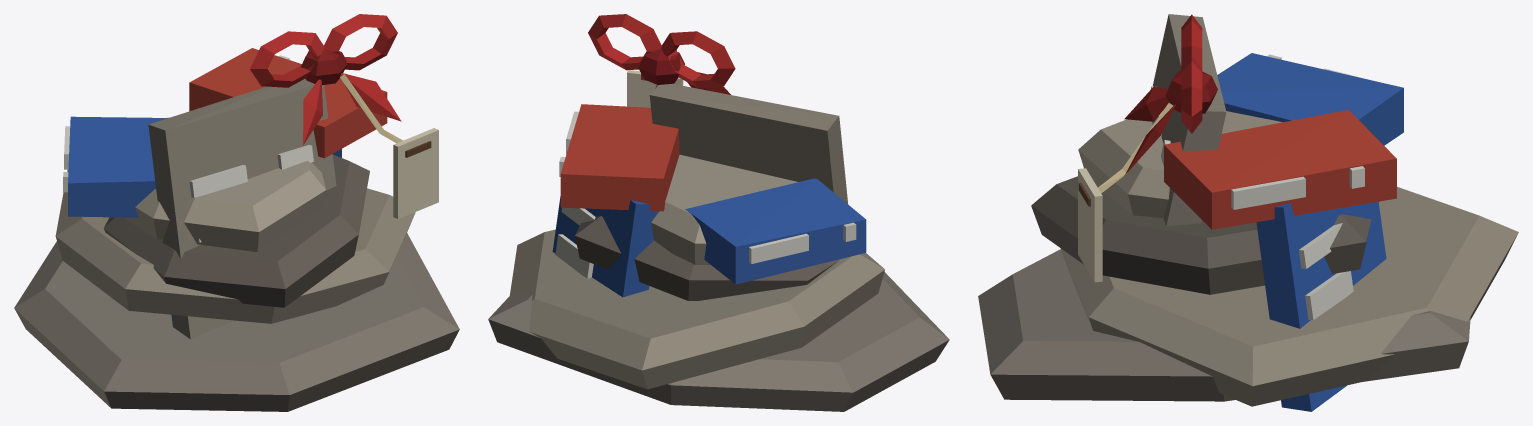
File: quest_prayer_stone.glb
3 views of the same model, side by side, from view 1: azimuth 30°, elevation 25°; view 2: azimuth 150°, elevation 25°; view 3: azimuth 270°, elevation 25° (orthographic). The views are drawn at different scales.
Parts seen in each view (by area): view 1: quest_prayer_stone; view 2: quest_prayer_stone; view 3: quest_prayer_stone.
Part boxes in pixels (left/top/right/bottom): quest_prayer_stone: left=14, top=14, right=459, bottom=411; quest_prayer_stone: left=488, top=14, right=949, bottom=411; quest_prayer_stone: left=978, top=14, right=1518, bottom=411.
Bounding box in the file's own units: 0.3781 × 0.2936 × 0.4.
